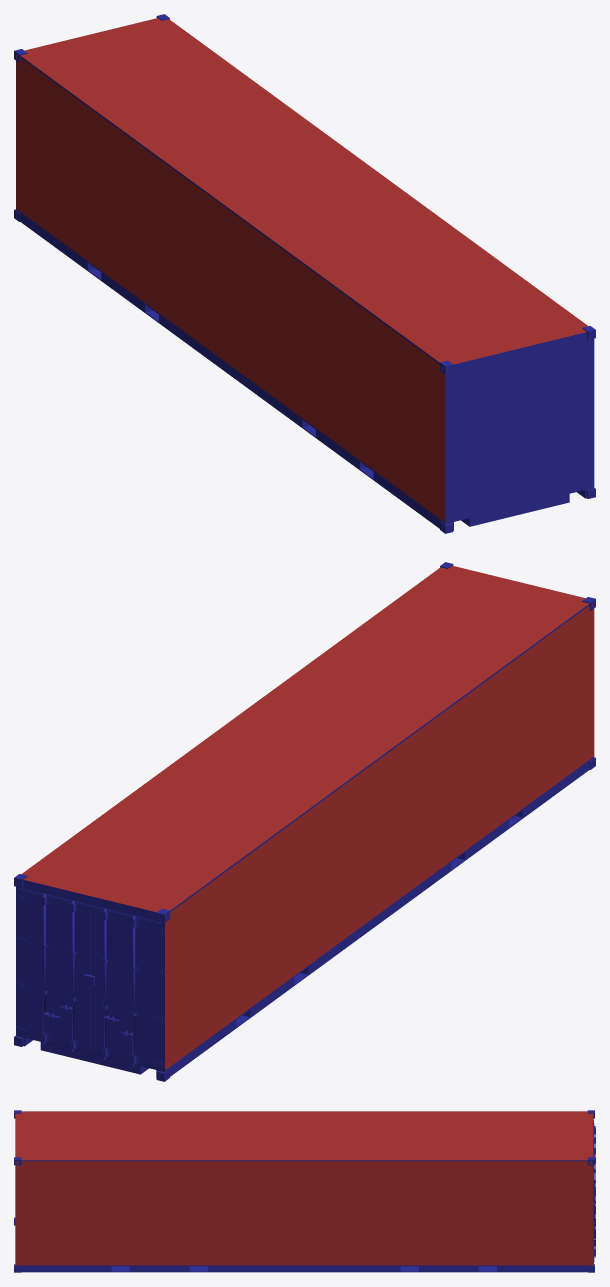
File: Container 40ft sealed green 1_LOD1.fbx
3 renders of one model, top to bottom at view 1: azimuth 30°, elevation 25°; view 2: azimuth 150°, elevation 25°; view 3: azimuth 270°, elevation 25°, orthographic. The views are drawn at different scales.
Visible parts, largest first — view 1: Container_40ft_sealed; view 2: Container_40ft_sealed; view 3: Container_40ft_sealed.
Boxes of the visible parts, x1,y1,x2,y2 form: Container_40ft_sealed: (14,14,595,533); Container_40ft_sealed: (14,562,595,1081); Container_40ft_sealed: (14,1110,595,1272).
Bounding box in the file's own units: 2.46 × 2.61 × 12.2.
